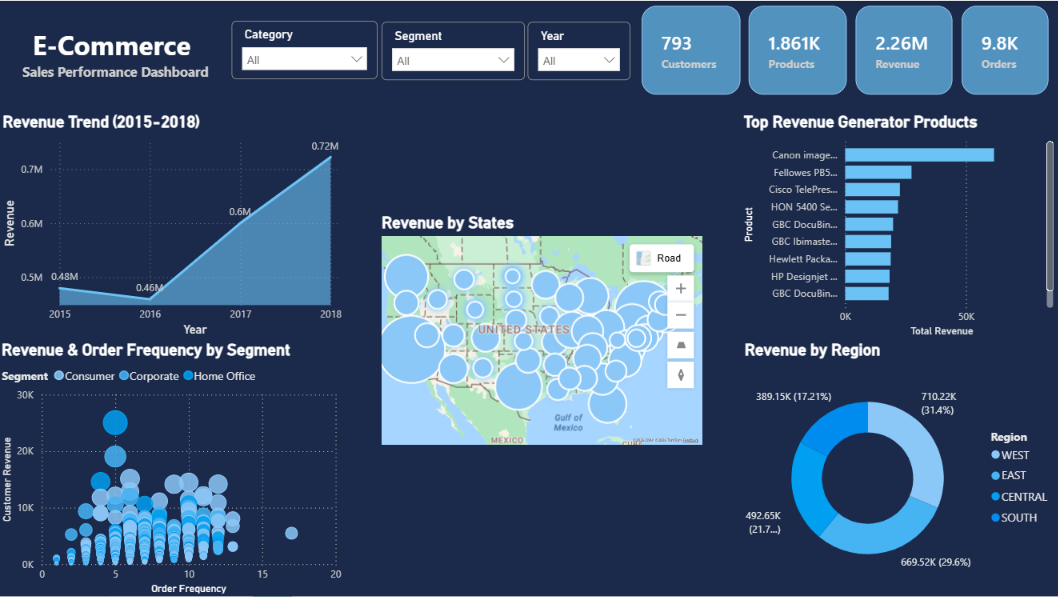

Layout of this report page (visuals, bound fields, positions):
{"tool":"powerbi","page":{"name":"Executive Summary","canvas":[1280,720],"ordinal":0},"visuals":[{"type":"textbox","box":[11.2,26.2,262.5,76.2],"z":1000},{"type":"cardVisual","fields":{"Data":["Sum(gold gold_sales_summary.total_sales)"]},"box":[1035.1,6,117,107.4],"z":2000},{"type":"cardVisual","fields":{"Data":["CountNonNull(silver_orders_rows.order_id)"]},"box":[1162.5,6.2,105,107.5],"z":3000},{"type":"cardVisual","fields":{"Data":["gold gold_customer_analysis.Total Customers"]},"box":[776.9,6,119.4,107.4],"z":4000},{"type":"cardVisual","fields":{"Data":["CountNonNull(gold gold_product_performance.product_id)"]},"box":[906.2,6.2,118.8,107.5],"z":5000},{"type":"lineChart","title":"Revenue Trend (2015-2018)","fields":{"Y":["Sum(silver_orders_rows.sales)"],"Category":["silver_orders_rows.order_date.Variation.Date Hierarchy.Year","silver_orders_rows.order_date.Variation.Date Hierarchy.Quarter","silver_orders_rows.order_date.Variation.Date Hierarchy.Month","silver_orders_rows.order_date.Variation.Date Hierarchy.Day"]},"box":[1.2,135,418.8,275],"z":6000},{"type":"slicer","fields":{"Values":["gold gold_customer_analysis.segment"]},"box":[463.1,25,172.5,70],"z":7000},{"type":"slicer","fields":{"Values":["silver_products_rows.category"]},"box":[282.5,23.8,176.2,70],"z":8000},{"type":"slicer","fields":{"Values":["silver_orders_rows.order_date.Variation.Date Hierarchy.Year"]},"box":[640,25,123.8,70],"z":9000},{"type":"clusteredBarChart","title":"Top Revenue Generator Products","fields":{"Category":["gold gold_product_performance.product_name"],"Y":["Sum(gold gold_product_performance.product_revenue)"]},"box":[895,135,383.8,275],"z":10000},{"type":"donutChart","title":"Revenue by Region","fields":{"Category":["gold gold_region_analysis.region"],"Y":["Sum(gold gold_region_analysis.total_sales)"]},"box":[896.2,410,383.8,310],"z":11000},{"type":"scatterChart","title":"Revenue & Order Frequency by Segment","fields":{"X":["gold gold_customer_analysis.order_frequency"],"Size":["Sum(gold gold_customer_analysis.customer_revenue)"],"Y":["gold gold_customer_analysis.customer_revenue"],"Series":["gold gold_customer_analysis.segment"]},"box":[0,410,420,310],"z":12000},{"type":"azureMap","title":"Revenue by States","fields":{"Category":["gold gold_region_analysis.state"],"Size":["Sum(gold gold_region_analysis.total_sales)"]},"box":[458.4,257,396.9,283.5],"z":13000}]}

Visuals, with their boxes in screenshot pixels (x1, y1, x2, y2), scaled from the page's 1280x720 canvas onto the 1058x597 screenshot:
textbox: bbox(9, 22, 226, 85)
cardVisual - Sum(gold gold_sales_summary.total_sales): bbox(856, 5, 952, 94)
cardVisual - CountNonNull(silver_orders_rows.order_id): bbox(961, 5, 1048, 94)
cardVisual - gold gold_customer_analysis.Total Customers: bbox(642, 5, 741, 94)
cardVisual - CountNonNull(gold gold_product_performance.product_id): bbox(749, 5, 847, 94)
"Revenue Trend (2015-2018)" lineChart: bbox(1, 112, 347, 340)
slicer - gold gold_customer_analysis.segment: bbox(383, 21, 525, 79)
slicer - silver_products_rows.category: bbox(234, 20, 379, 78)
slicer - silver_orders_rows.order_date.Variation.Date Hierarchy.Year: bbox(529, 21, 631, 79)
"Top Revenue Generator Products" clusteredBarChart: bbox(740, 112, 1057, 340)
"Revenue by Region" donutChart: bbox(741, 340, 1057, 596)
"Revenue & Order Frequency by Segment" scatterChart: bbox(0, 340, 347, 596)
"Revenue by States" azureMap: bbox(379, 213, 707, 448)
